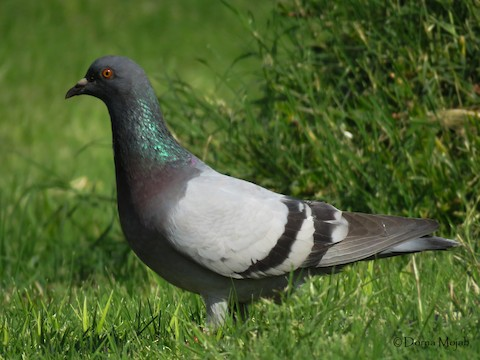pigeon: (63, 49, 460, 340)
